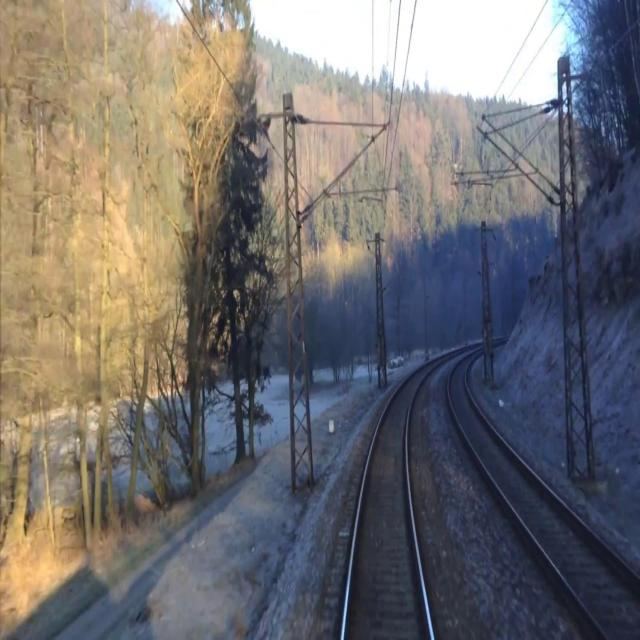rail-track: (450, 356, 640, 639), (345, 366, 429, 639)
